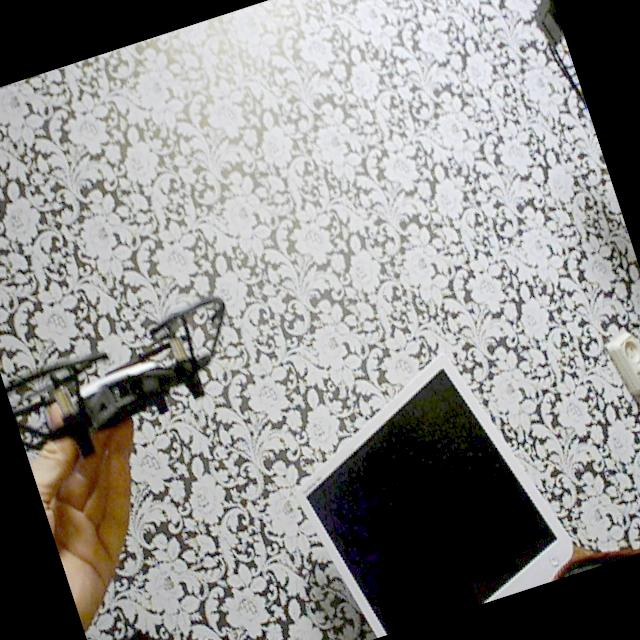drone: (0, 270, 269, 495)
